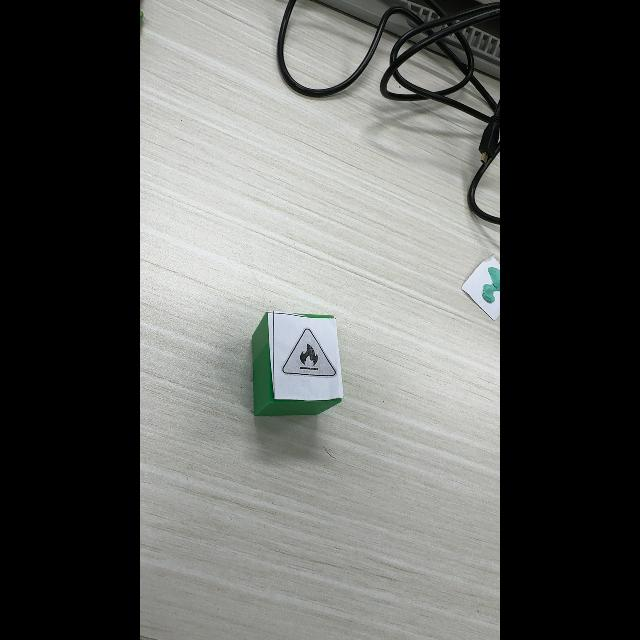Fire: (282, 327, 337, 377)
